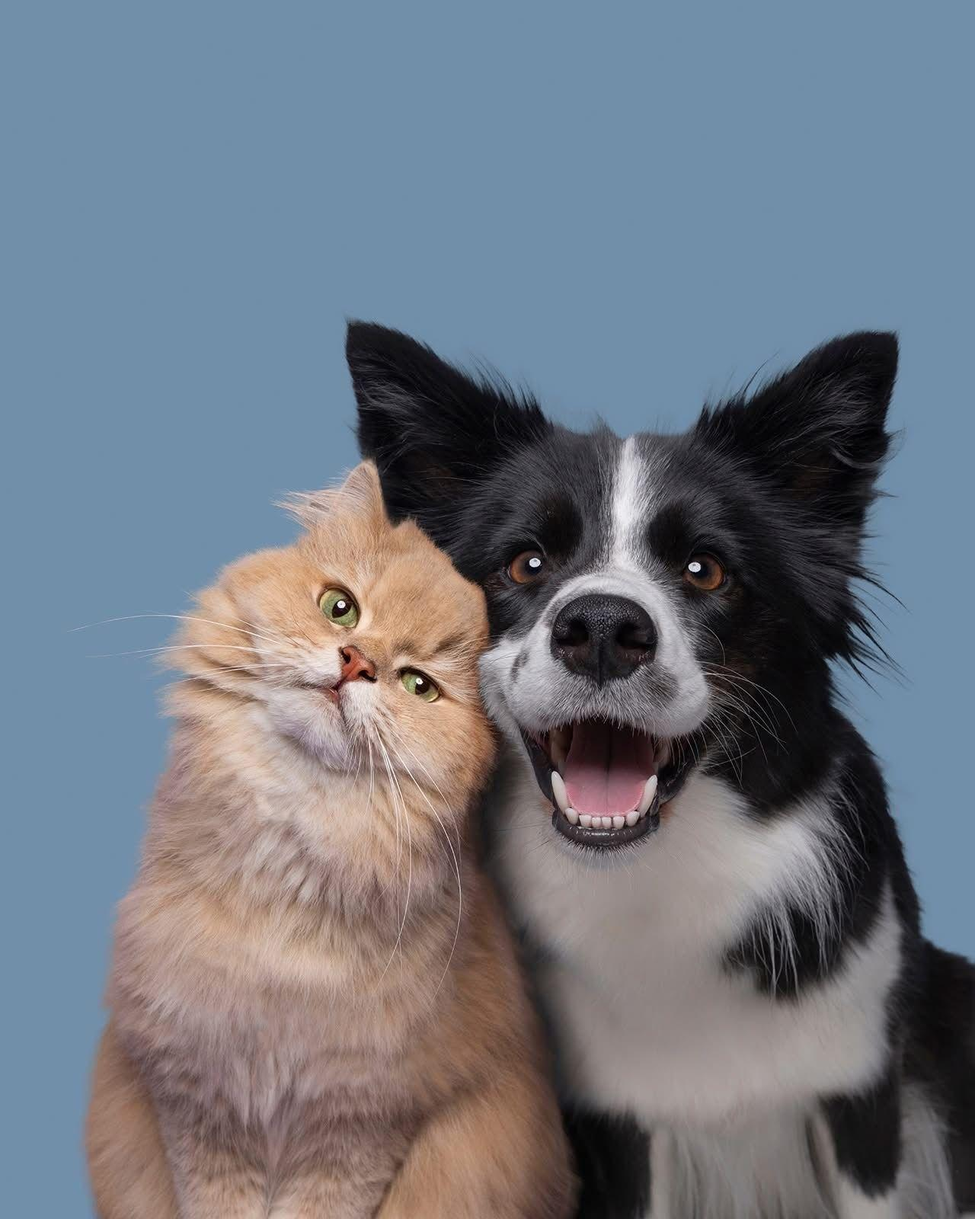adult_dog: (343, 313, 975, 1219)
non-dog: (89, 462, 578, 1219)
